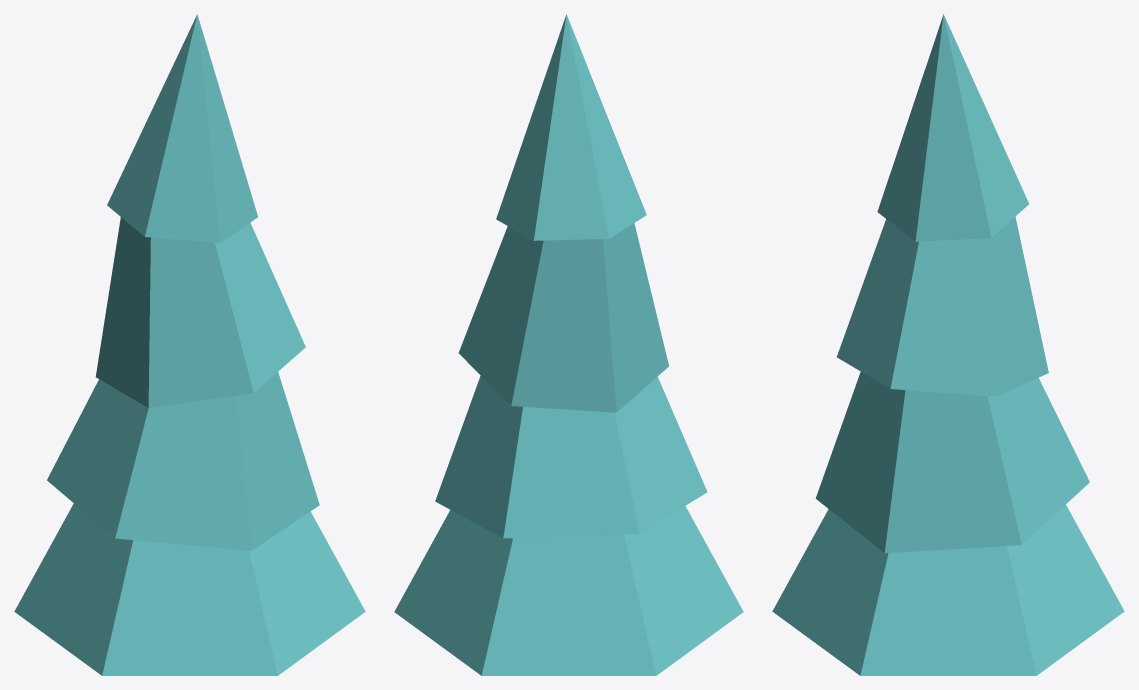
File: tree_pineGroundB.gltf
3 renders of one model, left to right at view 1: azimuth 30°, elevation 25°; view 2: azimuth 150°, elevation 25°; view 3: azimuth 270°, elevation 25°, orthographic.
Visible parts, largest first — view 1: tree_pineGroundB; view 2: tree_pineGroundB; view 3: tree_pineGroundB.
Part boxes in pixels (x1=…): tree_pineGroundB: x1=14, y1=14, x2=365, y2=675; tree_pineGroundB: x1=394, y1=14, x2=743, y2=675; tree_pineGroundB: x1=772, y1=14, x2=1124, y2=675.
Bounding box in the file's own units: 0.4804 × 1.04 × 0.5547.
